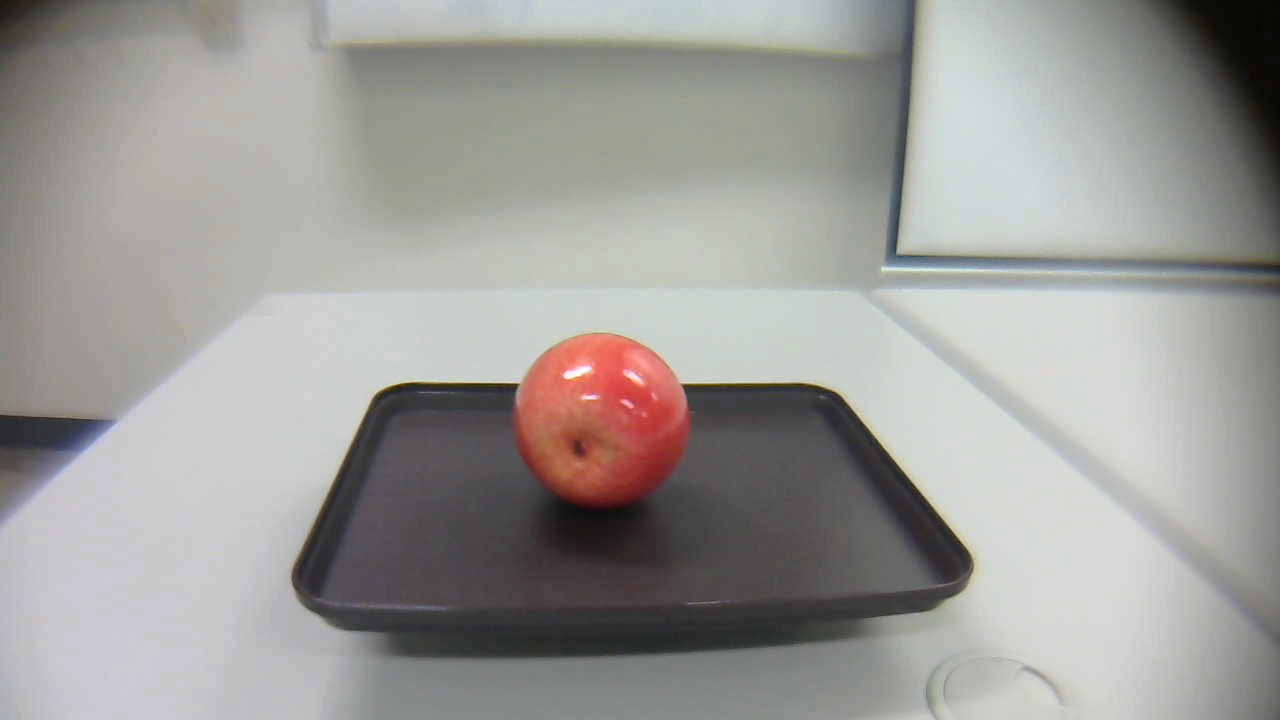red apple: (509, 324, 696, 521)
